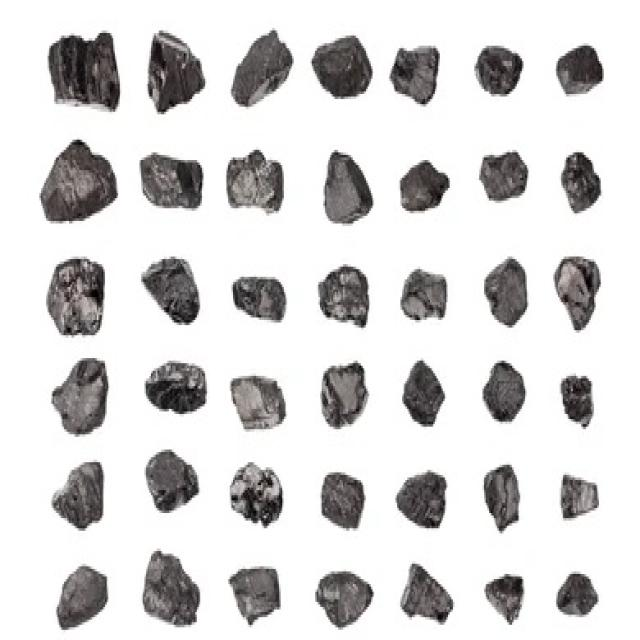Sedimentary: (35, 137, 123, 226), (40, 26, 122, 120), (140, 26, 218, 120), (228, 20, 295, 124), (46, 350, 118, 444), (225, 144, 295, 238), (387, 457, 461, 539), (40, 254, 112, 338), (141, 251, 209, 338), (143, 548, 210, 635), (306, 26, 378, 104), (546, 254, 616, 333), (399, 551, 466, 632), (48, 564, 118, 640), (479, 252, 538, 341), (44, 457, 110, 536), (134, 150, 212, 216), (222, 363, 294, 434), (474, 36, 542, 111), (315, 353, 376, 434), (478, 353, 542, 429), (323, 142, 372, 241), (396, 152, 452, 234), (223, 564, 289, 630), (386, 38, 443, 114), (228, 457, 286, 531), (143, 447, 207, 513), (315, 259, 374, 330), (474, 147, 538, 211), (553, 33, 615, 99), (141, 358, 210, 417), (315, 566, 378, 630), (558, 145, 602, 236), (397, 356, 448, 434), (226, 267, 289, 330), (399, 256, 451, 332), (553, 462, 617, 523), (478, 460, 528, 536), (315, 465, 369, 533), (548, 564, 607, 622), (555, 368, 602, 434), (486, 564, 530, 622)
